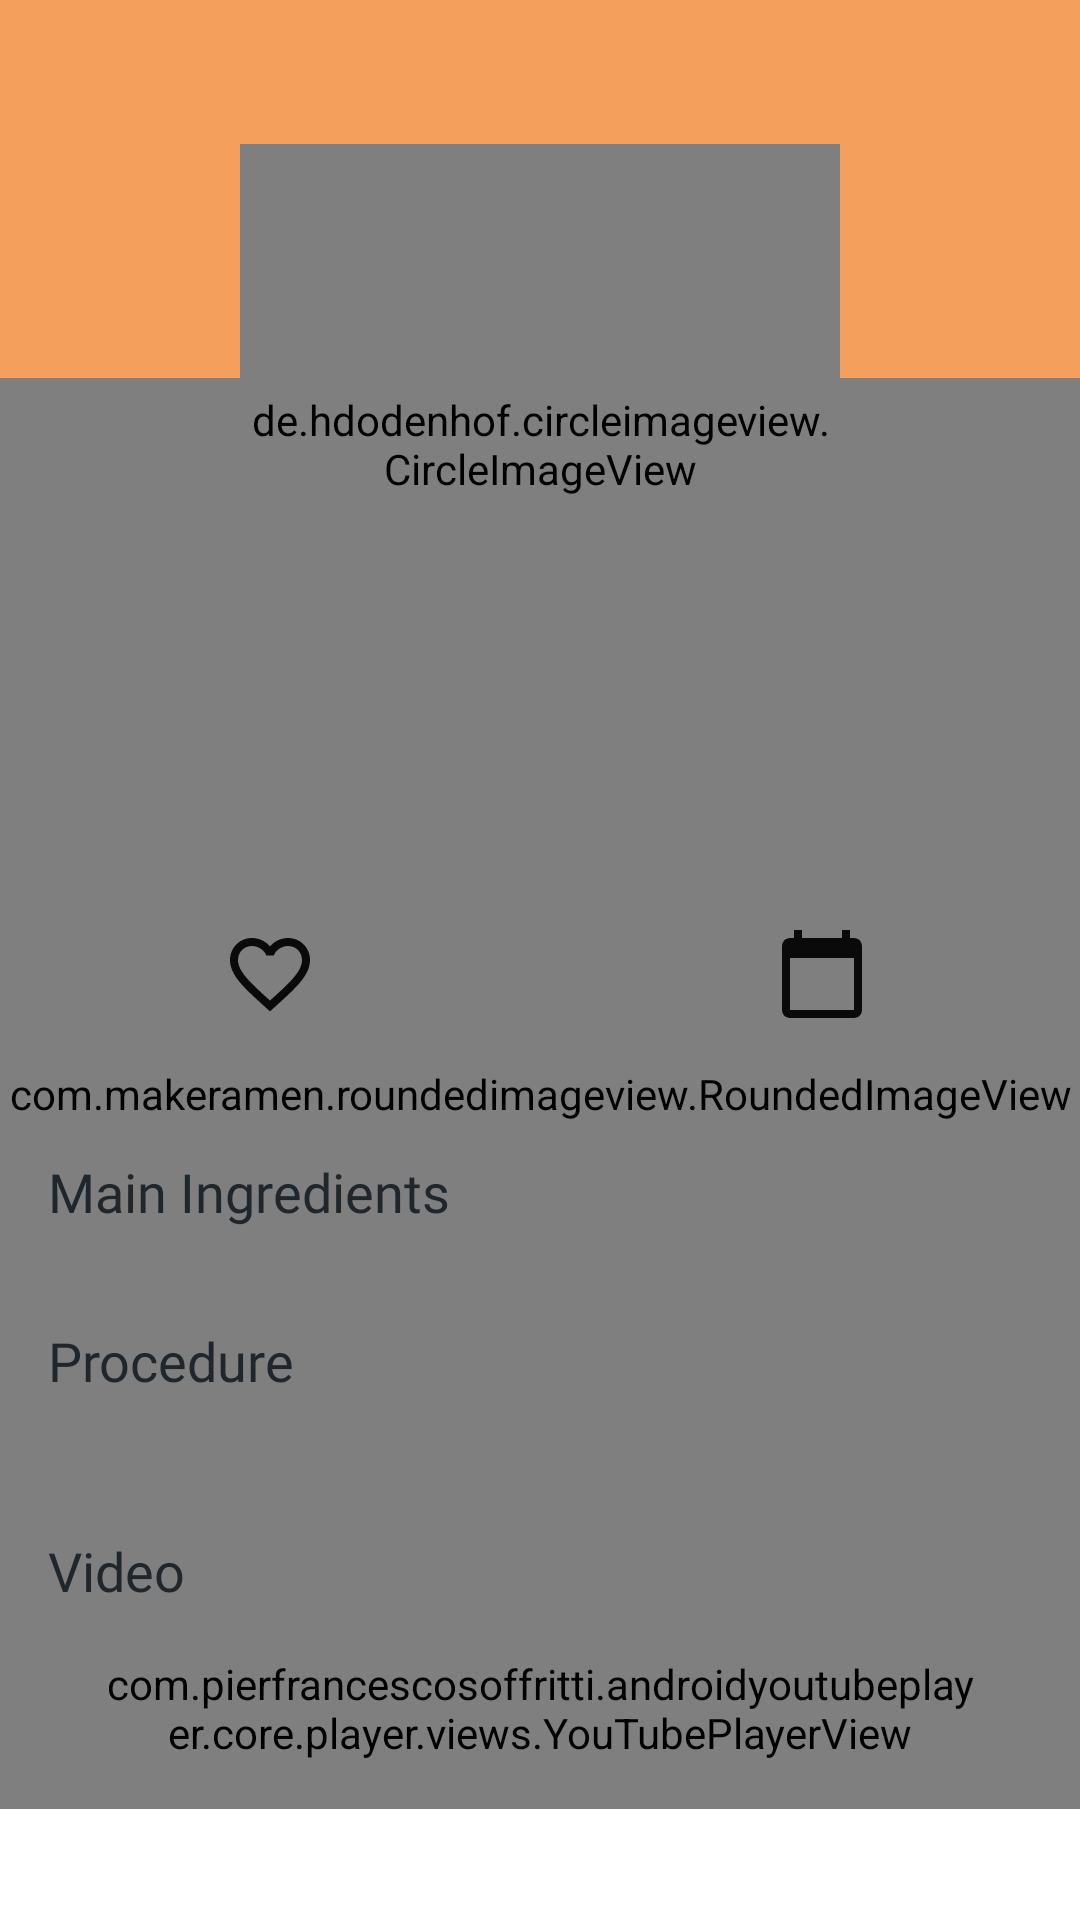

Icon bounding boxes for this 1080px×1920px phone screenshot, format (x1,y1,x2,y2):
calendar today: (782,930,862,1018)
favorite border: (230,938,310,1011)
